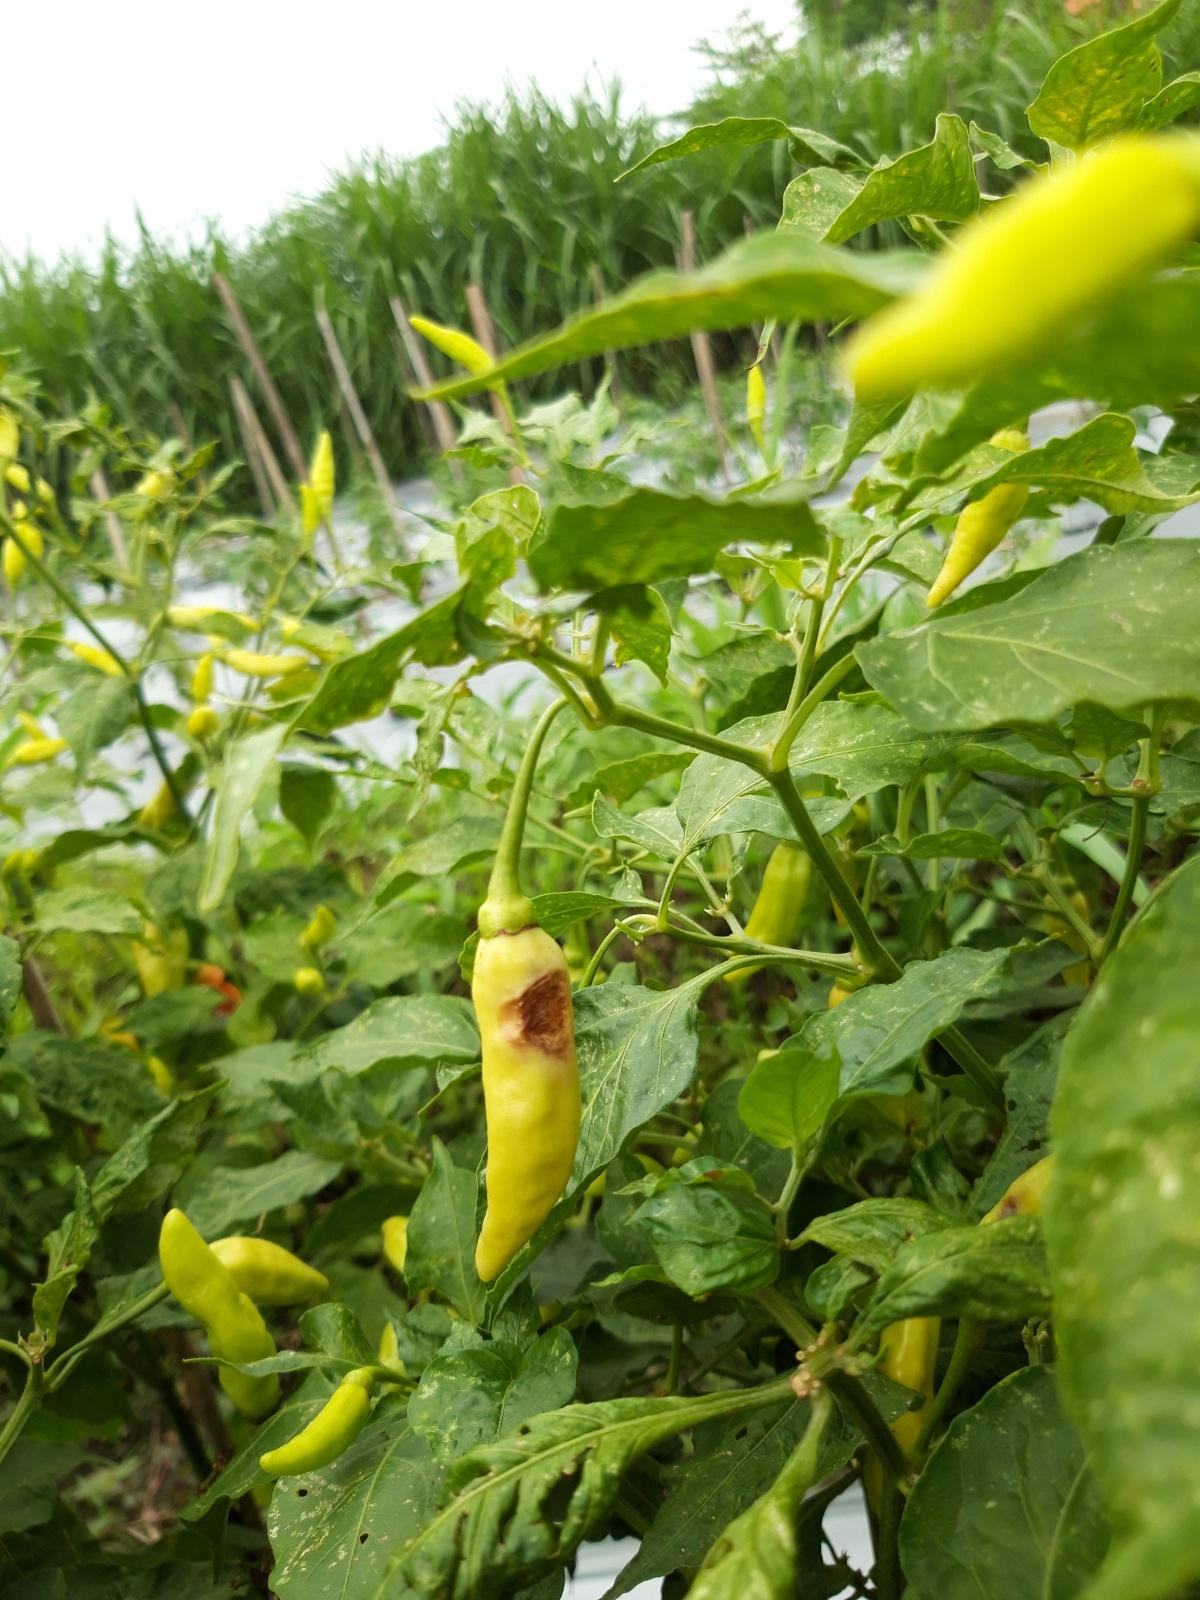cabai_normal: (834, 127, 1197, 391), (156, 1208, 282, 1425), (260, 1371, 373, 1477), (208, 1236, 330, 1305), (405, 314, 502, 383), (310, 431, 337, 520)
lalat_buah: (470, 901, 580, 1283)
